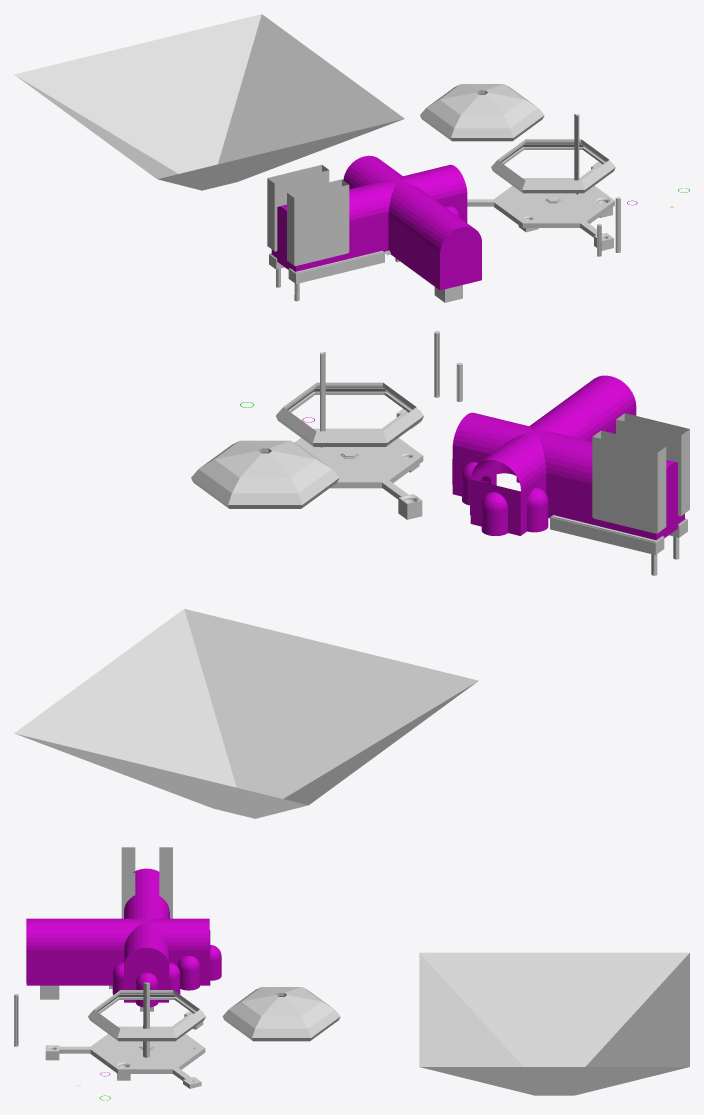
File: VoiceColorSlot Church_optimized.fbx
3 views of the same model, one above another, from view 1: azimuth 30°, elevation 25°; view 2: azimuth 150°, elevation 25°; view 3: azimuth 270°, elevation 25° (orthographic). The views are drawn at different scales.
Visible parts, largest first — view 1: bucket, Cube.001, sky temple roof.001, Slot_vertical.002, SLOT_Skyisland, sky temple roof, Slot_vertical.004, Slot_vertical.001; view 2: bucket, Cube.001, sky temple roof.001, Slot_vertical.004, sky temple roof, SLOT_Skyisland, Slot_vertical.002, Slot_vertical.003; view 3: bucket, Cube.001, sky temple roof.001, SLOT_Skyisland, sky temple roof, Slot_vertical.002, Slot_vertical.004.
Boxes of the visible parts, <box> form: bucket: <box>14,14,404,190</box>; Cube.001: <box>271,155,481,290</box>; sky temple roof.001: <box>420,84,544,141</box>; Slot_vertical.002: <box>287,179,349,266</box>; SLOT_Skyisland: <box>494,178,614,232</box>; sky temple roof: <box>491,139,615,193</box>; Slot_vertical.004: <box>267,165,329,251</box>; Slot_vertical.001: <box>288,250,384,301</box>; bucket: <box>14,608,478,818</box>; Cube.001: <box>452,375,684,539</box>; sky temple roof.001: <box>191,440,339,508</box>; Slot_vertical.004: <box>592,430,666,533</box>; sky temple roof: <box>276,382,423,446</box>; SLOT_Skyisland: <box>295,428,423,488</box>; Slot_vertical.002: <box>616,413,689,516</box>; Slot_vertical.003: <box>550,515,664,575</box>; bucket: <box>419,952,689,1095</box>; Cube.001: <box>26,868,221,1007</box>; sky temple roof.001: <box>222,987,340,1041</box>; SLOT_Skyisland: <box>90,1026,205,1080</box>; sky temple roof: <box>88,990,205,1041</box>; Slot_vertical.002: <box>121,847,135,918</box>; Slot_vertical.004: <box>159,847,172,918</box>.
Size of the model in its own units: 9085 by 4153 by 14558.
